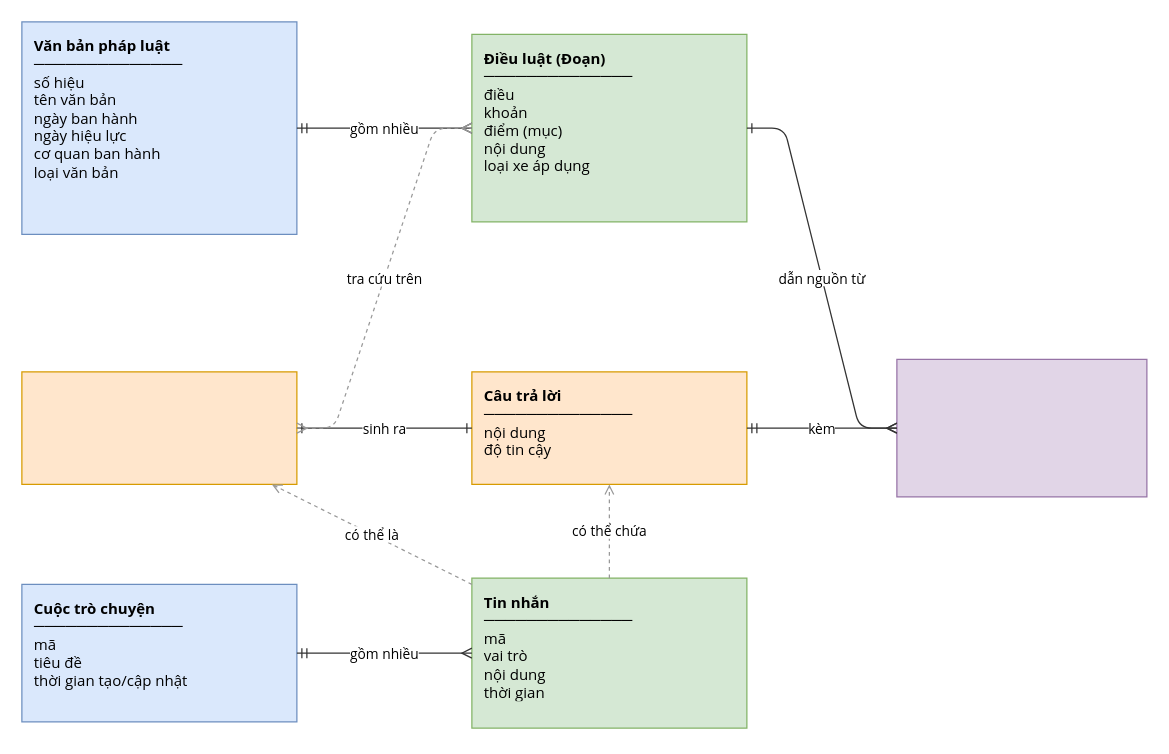
Some shapes in this 1169 by 754 pixel diagram are drawn without their labels. The shapes that lost their labels are listed below. From the top down, each one's centre as x and y in pixels, then its label:
(159,427): Câu hỏi ────────────── nội dung câu hỏi (tình huống giao thông)
(1021,427): Trích dẫn ────────────── số hiệu điều, khoản nội dung đầy đủ
